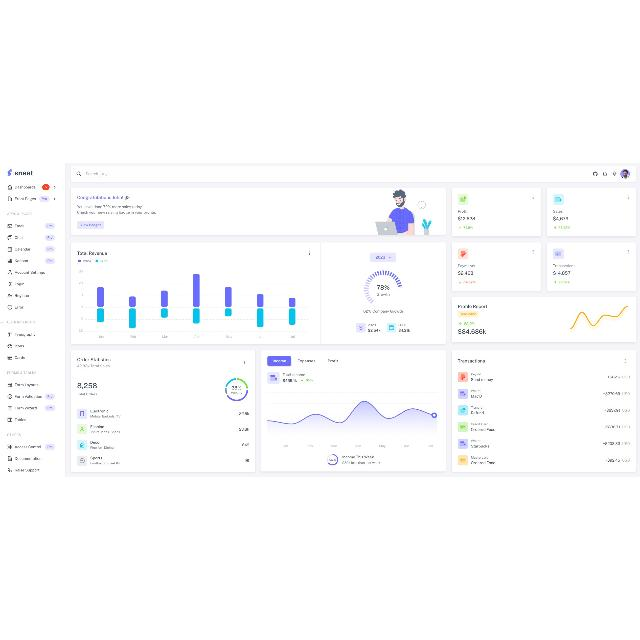Bar: (75, 259, 313, 341)
Doughnut: (226, 378, 248, 402), (363, 310, 403, 314), (76, 384, 98, 391), (327, 454, 339, 466), (76, 365, 110, 369), (77, 358, 111, 362), (90, 462, 120, 466), (90, 446, 114, 450), (76, 393, 98, 397), (90, 410, 108, 414), (90, 432, 120, 434), (90, 416, 120, 418), (238, 412, 250, 416), (238, 428, 250, 432), (90, 457, 102, 461), (377, 293, 389, 297), (377, 286, 389, 290), (368, 329, 380, 333), (398, 329, 410, 333), (231, 386, 241, 390), (368, 324, 377, 328), (90, 426, 104, 428), (244, 459, 250, 463), (90, 442, 102, 444), (232, 392, 242, 394), (398, 324, 407, 326), (242, 444, 250, 446)
QLabel: (77, 206, 156, 214), (77, 196, 123, 200), (458, 329, 487, 335), (342, 462, 380, 466), (77, 252, 107, 256), (457, 305, 487, 309), (457, 359, 485, 363), (458, 216, 474, 222), (471, 428, 495, 432), (282, 373, 306, 377), (342, 456, 374, 459), (80, 223, 102, 227), (553, 264, 575, 268), (471, 378, 493, 382), (554, 216, 568, 222), (471, 445, 489, 449), (297, 360, 315, 364), (458, 264, 474, 268), (554, 272, 570, 276), (460, 312, 476, 316), (604, 392, 620, 396), (604, 409, 620, 413), (604, 426, 620, 430), (604, 442, 620, 446), (458, 272, 472, 276), (606, 459, 620, 463), (471, 456, 489, 459), (471, 462, 495, 464), (608, 376, 620, 380), (471, 395, 482, 399), (458, 210, 468, 214), (464, 322, 474, 326), (328, 359, 338, 363), (471, 406, 484, 409), (86, 172, 98, 175), (558, 227, 570, 230), (472, 424, 488, 426), (622, 442, 630, 446), (622, 426, 630, 430), (622, 409, 630, 413), (622, 392, 630, 396), (328, 458, 336, 462), (463, 227, 473, 230), (283, 380, 297, 382), (272, 360, 286, 362), (471, 412, 484, 414), (622, 376, 630, 379), (471, 374, 482, 376), (553, 210, 563, 212), (471, 390, 481, 392), (472, 440, 481, 442), (622, 460, 630, 462), (306, 380, 312, 382), (105, 173, 107, 175)
QMenu: (0, 163, 66, 477)
VAvatar: (620, 170, 630, 178)
VBtn: (267, 356, 291, 366), (76, 222, 104, 228), (100, 171, 108, 177)
VCard: (70, 242, 446, 346), (261, 351, 447, 474), (70, 351, 256, 474), (452, 350, 636, 472), (70, 188, 446, 236), (71, 165, 637, 182), (452, 296, 636, 344), (451, 187, 541, 237), (546, 187, 636, 237), (451, 242, 541, 292), (547, 242, 637, 292)
VCombobox: (370, 253, 396, 263)
VIcon: (552, 248, 564, 260), (268, 372, 280, 384), (458, 248, 468, 260), (458, 193, 468, 204), (553, 193, 563, 204), (458, 372, 468, 383), (458, 438, 468, 449), (458, 389, 468, 399), (458, 406, 468, 416), (458, 423, 468, 433), (458, 456, 468, 466), (77, 409, 87, 419), (77, 425, 87, 435), (77, 441, 87, 451), (77, 456, 87, 466), (356, 323, 366, 333), (387, 323, 397, 333), (77, 172, 81, 176), (125, 196, 129, 200), (593, 172, 597, 176), (603, 172, 607, 176), (612, 172, 616, 176), (458, 322, 462, 326), (309, 251, 311, 255), (532, 195, 534, 199), (532, 250, 534, 254), (624, 360, 626, 364), (243, 361, 245, 365), (458, 282, 462, 284), (300, 380, 304, 382), (459, 227, 461, 230), (554, 227, 556, 230), (102, 173, 104, 175), (554, 282, 556, 284), (628, 250, 628, 254), (628, 195, 628, 199)
VImg: (374, 189, 432, 235)
VSparkline: (264, 391, 442, 454), (566, 304, 630, 332)
